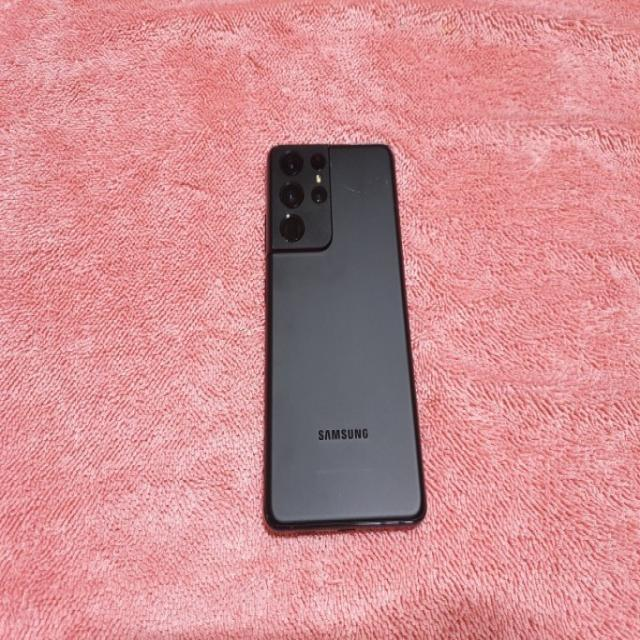phone: (265, 140, 428, 530)
